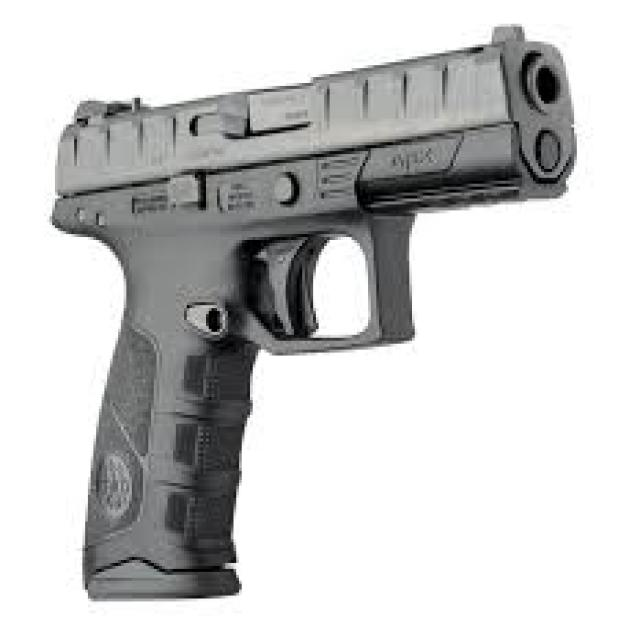pistol: (54, 21, 582, 610)
